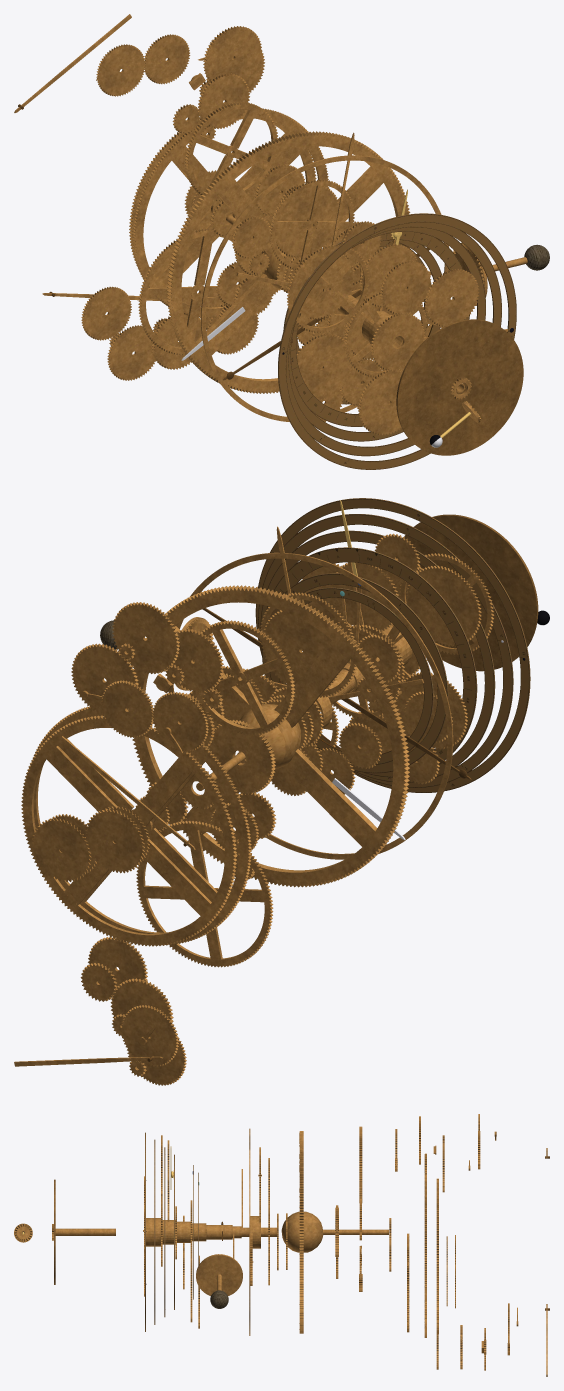
3 views of the same model, one above another, from view 1: azimuth 30°, elevation 25°; view 2: azimuth 150°, elevation 25°; view 3: azimuth 270°, elevation 25° (orthographic). The views are drawn at different scales.
Parts seen in each view (by area): view 1: crank_axle, ring_jupiter_1, centre_disc; view 2: crank_axle, ring_jupiter_1, centre_disc, dragon_head; view 3: crank_axle, ring_jupiter_1.
Part boxes in pixels (box(x1,y1,x2,y2)): crank_axle: box(14, 14, 527, 435); ring_jupiter_1: box(278, 213, 516, 469); centre_disc: box(396, 319, 523, 455); crank_axle: box(14, 526, 494, 1085); ring_jupiter_1: box(255, 498, 530, 792); centre_disc: box(396, 514, 538, 671); dragon_head: box(147, 608, 471, 1061); crank_axle: box(14, 1114, 547, 1376); ring_jupiter_1: box(145, 1132, 198, 1331).
Size of the model in its own units: 175 by 191 by 344.
13 materials, 13 textured.
